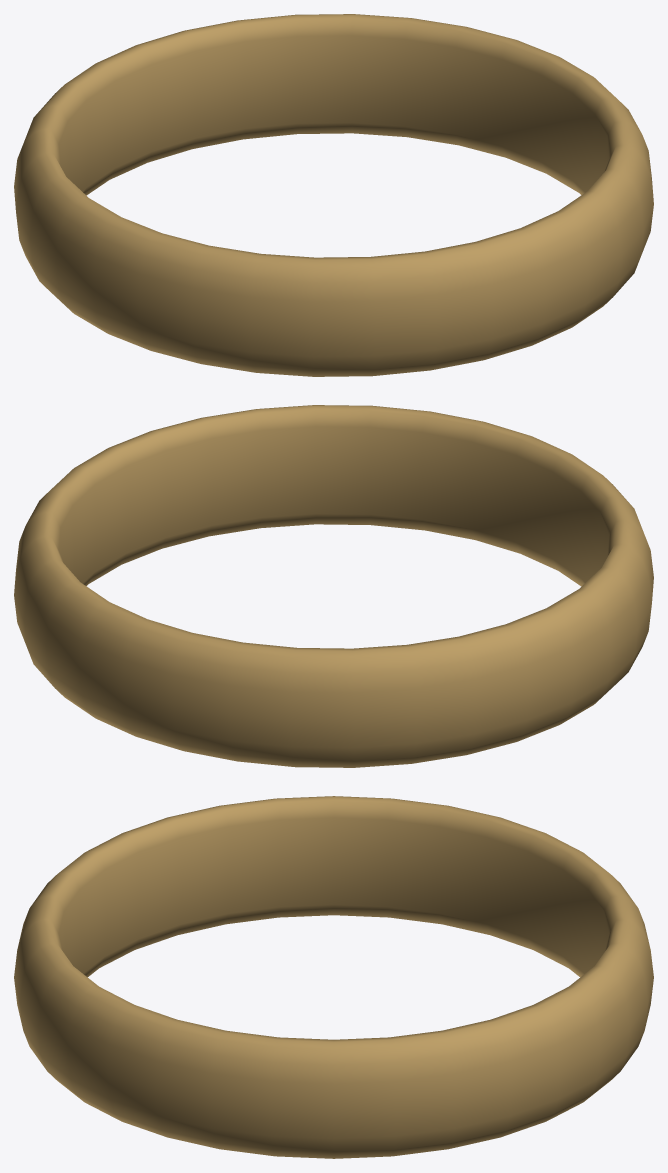
The model's file is obj-68-ring.glb.
The picture shows the model from 3 angles, top to bottom: view 1: azimuth 30°, elevation 25°; view 2: azimuth 150°, elevation 25°; view 3: azimuth 270°, elevation 25°; orthographic projection.
Parts seen in each view (by area): view 1: RingLPLvl1; view 2: RingLPLvl1; view 3: RingLPLvl1.
Boxes of the visible parts, bbox=[...] form: RingLPLvl1: bbox=[14, 14, 653, 376]; RingLPLvl1: bbox=[14, 405, 653, 767]; RingLPLvl1: bbox=[14, 796, 653, 1158].
Bounding box in the file's own units: 0.0181 × 0.00361 × 0.0181.
